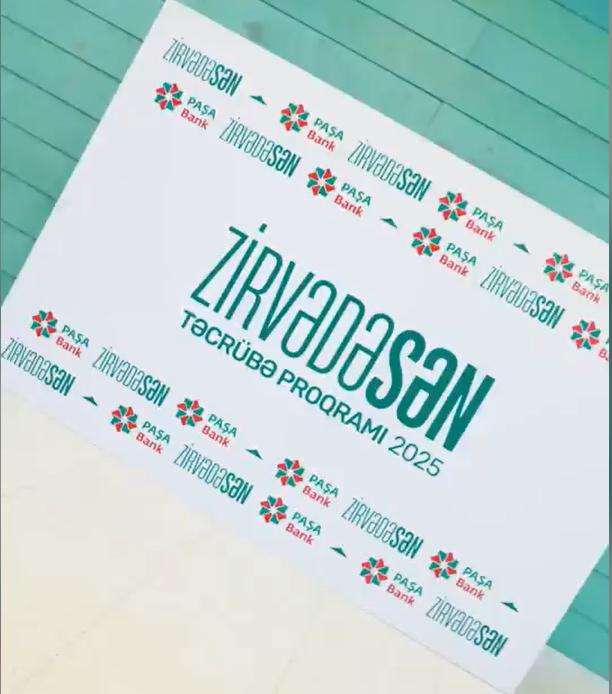Pasha Bank: (304, 163, 339, 198), (435, 189, 469, 222), (409, 223, 441, 257), (277, 100, 309, 133), (426, 549, 460, 580), (153, 80, 185, 112), (358, 554, 390, 586), (274, 457, 306, 488), (175, 396, 205, 429), (257, 494, 288, 524), (108, 403, 137, 435), (29, 309, 57, 339)
